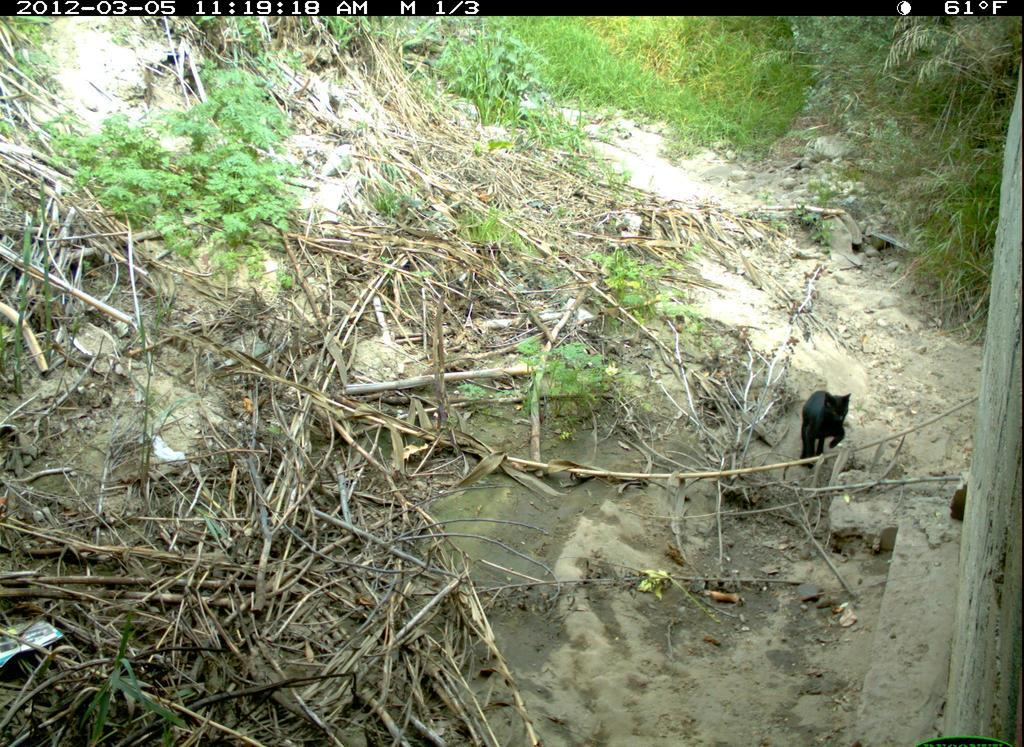cat: (797, 386, 852, 475)
